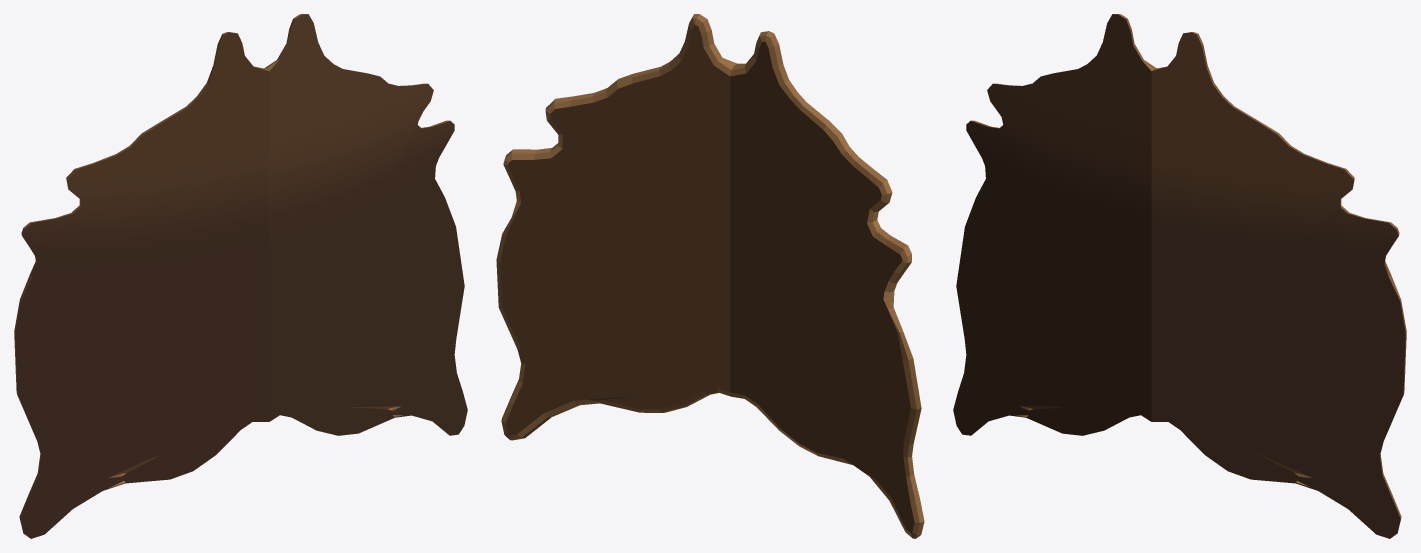
The model's file is Cuero.fbx.
3 views of the same model, side by side, from view 1: azimuth 30°, elevation 25°; view 2: azimuth 150°, elevation 25°; view 3: azimuth 330°, elevation 25° (orthographic). The views are drawn at different scales.
Visible parts, largest first — view 1: Vert.001; view 2: Vert.001; view 3: Vert.001.
Part boxes in pixels (box(x1,y1,x2,y2)): Vert.001: box(14, 14, 467, 538); Vert.001: box(496, 14, 924, 538); Vert.001: box(953, 14, 1406, 538).
Size of the model in its own units: 108 by 110 by 16.54.
